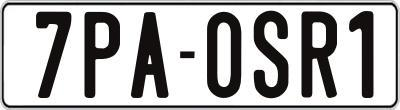0: (206, 10, 246, 96)
1: (349, 8, 376, 98)
7: (36, 9, 73, 98)
A: (131, 12, 172, 98)
P: (84, 12, 124, 98)
R: (302, 11, 339, 99)
S: (251, 9, 291, 101)
